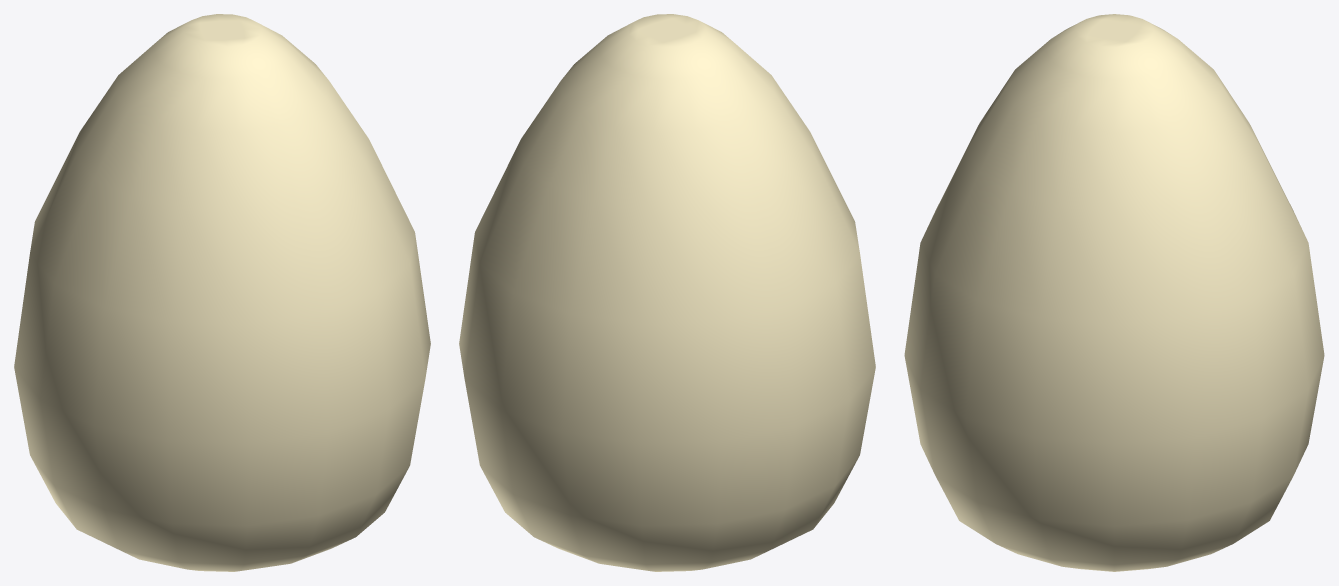
Rendered from egg.fbx.
3 renders of one model, left to right at view 1: azimuth 30°, elevation 25°; view 2: azimuth 150°, elevation 25°; view 3: azimuth 270°, elevation 25°, orthographic.
Visible parts, largest first — view 1: Egg; view 2: Egg; view 3: Egg.
Boxes of the visible parts, x1,y1,x2,y2 form: Egg: [14, 14, 430, 571]; Egg: [459, 14, 875, 571]; Egg: [904, 14, 1324, 571].
Bounding box in the file's own units: 32.25 × 42.64 × 32.25.
